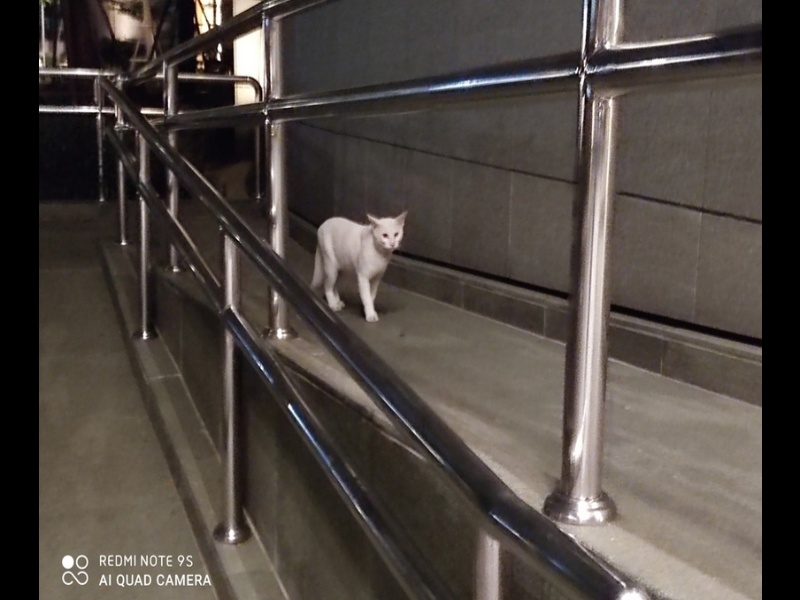cat: (307, 215, 410, 324)
